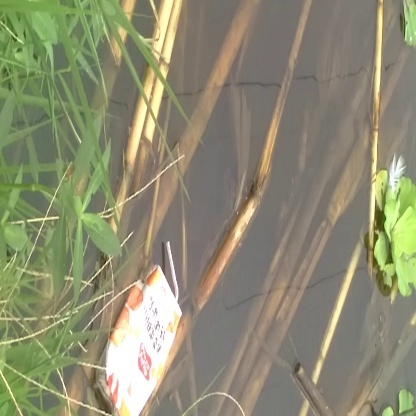milk-box: (83, 246, 192, 416)
